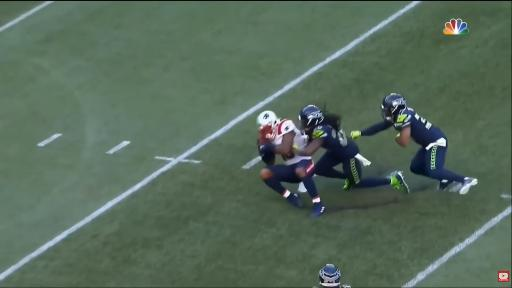Helmet: (382, 94, 406, 121), (257, 111, 279, 139), (299, 105, 323, 130), (319, 264, 340, 287), (257, 111, 278, 126)
Jersey: (394, 108, 445, 149), (312, 125, 358, 160), (272, 119, 307, 149), (339, 285, 351, 287)
Player: (351, 94, 477, 194), (298, 105, 409, 192), (257, 111, 324, 216), (315, 264, 350, 287)
